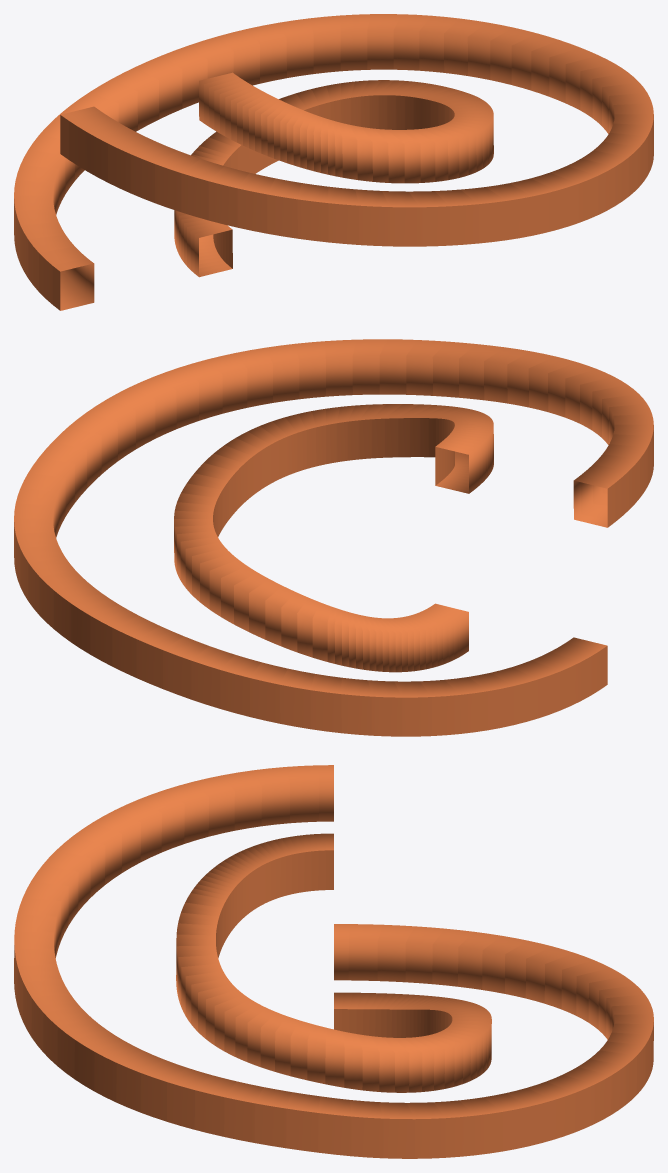
File: spiralSand.fbx
3 renders of one model, top to bottom at view 1: azimuth 30°, elevation 25°; view 2: azimuth 150°, elevation 25°; view 3: azimuth 270°, elevation 25°, orthographic.
Visible parts, largest first — view 1: sand.054, sand.055, sand.057, sand.002, sand.056, sand.053, sand.058, sand.052, sand.051, sand.059, sand.050, sand.022 (+88 smaller); view 2: sand.012, sand.016, sand.013, sand.015, sand.017, sand.014, sand.011, sand.010, sand.064, sand.018, sand.009, sand.008 (+95 smaller); view 3: sand.033, sand.034, sand.035, sand.032, sand.031, sand.036, sand.037, sand.030, sand.002, sand.064, sand.029, sand.003 (+87 smaller).
Part boxes in pixels (<box>): sand.054: <box>328,186,359,244</box>; sand.055: <box>297,183,328,242</box>; sand.057: <box>237,173,274,233</box>; sand.002: <box>39,246,87,304</box>; sand.056: <box>267,178,301,238</box>; sand.053: <box>355,189,389,246</box>; sand.058: <box>208,166,249,227</box>; sand.052: <box>382,191,420,246</box>; sand.051: <box>409,191,449,246</box>; sand.059: <box>181,159,224,220</box>; sand.050: <box>435,189,478,245</box>; sand.022: <box>309,15,340,73</box>; sand.012: <box>310,674,341,733</box>; sand.016: <box>191,646,234,708</box>; sand.013: <box>280,668,314,729</box>; sand.015: <box>220,654,261,716</box>; sand.017: <box>163,636,208,699</box>; sand.014: <box>249,662,287,723</box>; sand.011: <box>341,677,372,735</box>; sand.010: <box>368,680,402,736</box>; sand.064: <box>580,464,629,521</box>; sand.018: <box>136,626,183,688</box>; sand.009: <box>394,681,431,736</box>; sand.008: <box>420,680,460,735</box>; sand.033: <box>318,1096,351,1156</box>; sand.034: <box>286,1092,320,1152</box>; sand.035: <box>254,1087,291,1148</box>; sand.032: <box>350,1100,383,1158</box>; sand.031: <box>378,1102,415,1158</box>; sand.036: <box>224,1081,263,1142</box>; sand.037: <box>194,1075,236,1136</box>; sand.030: <box>407,1102,445,1158</box>; sand.002: <box>348,924,382,980</box>; sand.064: <box>285,765,319,823</box>; sand.029: <box>434,1100,474,1157</box>; sand.003: <box>377,924,414,982</box>.
Size of the model in its own units: 2920 by 1001 by 2921.
